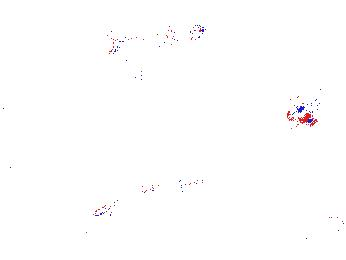glassfish: (192, 97, 289, 167), (88, 175, 207, 221)
red belly glassfish: (286, 107, 318, 129)
redtail glassfish: (101, 17, 206, 56), (92, 56, 147, 89)
